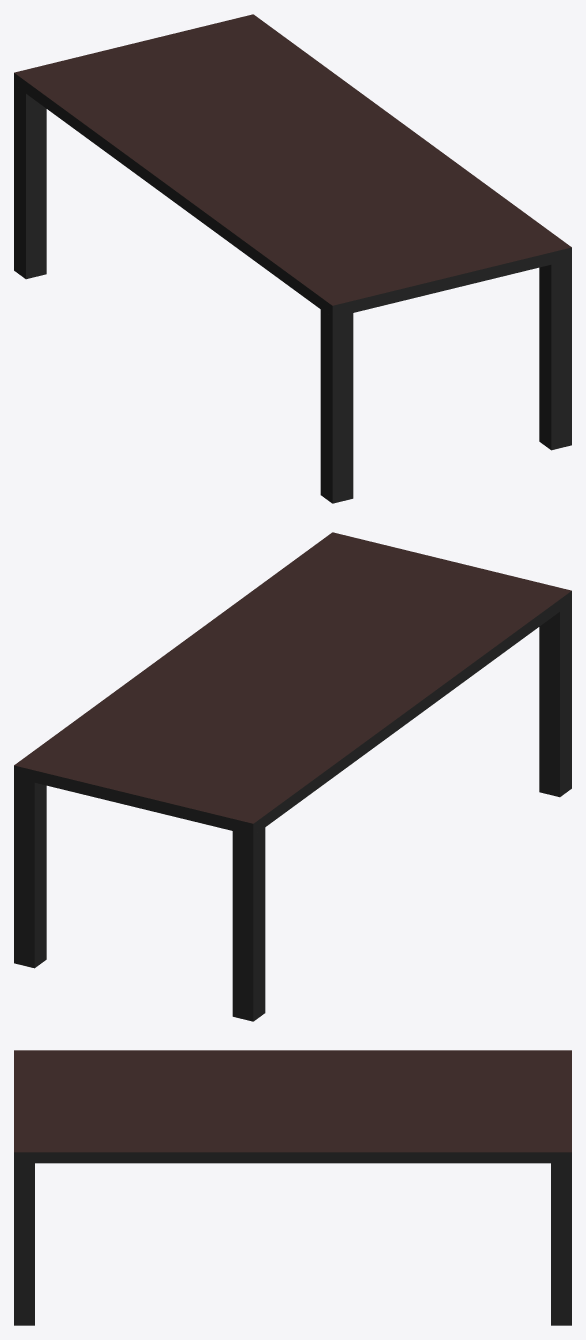
File: GrandeTable_8.fbx
3 views of the same model, one above another, from view 1: azimuth 30°, elevation 25°; view 2: azimuth 150°, elevation 25°; view 3: azimuth 270°, elevation 25° (orthographic). The views are drawn at different scales.
Parts seen in each view (by area): view 1: pCube43, pCube47, pCube46, pCube49; view 2: pCube43, pCube49, pCube48, pCube47; view 3: pCube43, pCube48, pCube46.
Part boxes in pixels (x1,y1,x2,y2): pCube43: (14, 14, 571, 317); pCube47: (320, 309, 353, 503); pCube46: (539, 259, 571, 450); pCube49: (14, 84, 46, 279); pCube43: (14, 532, 571, 835); pCube49: (232, 827, 265, 1021); pCube48: (14, 777, 46, 968); pCube47: (539, 602, 571, 797); pCube43: (14, 1050, 571, 1163); pCube48: (551, 1162, 571, 1325); pCube46: (14, 1162, 34, 1325).
Bounding box in the file's own units: 50.06 × 39.53 × 115.
